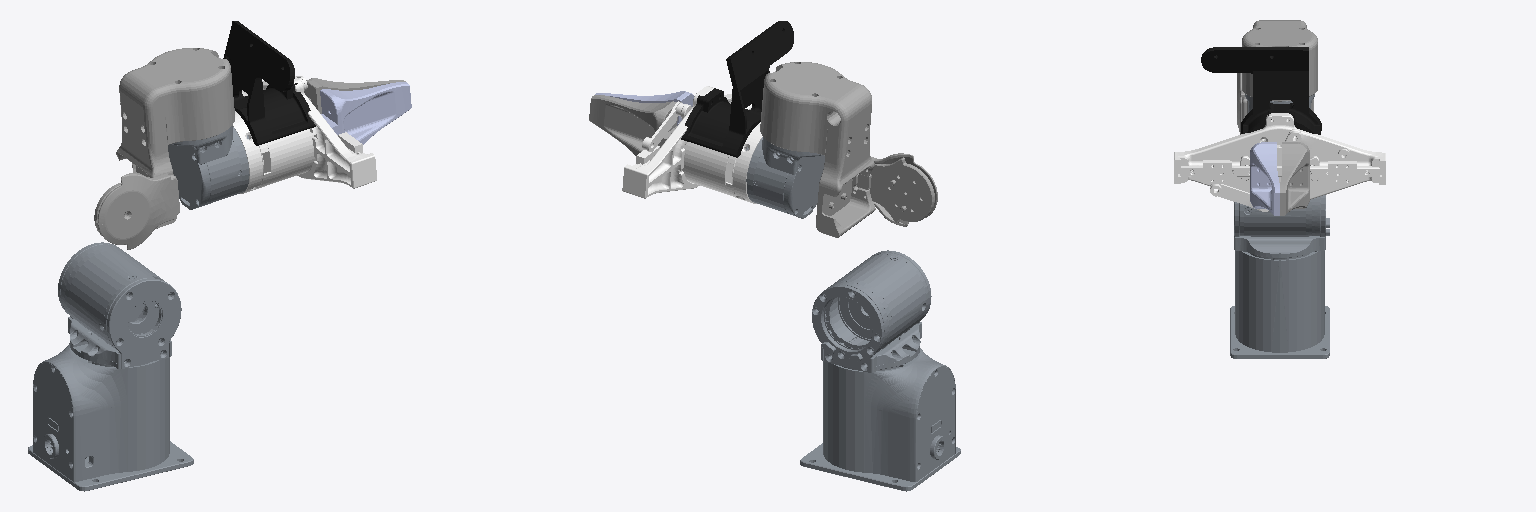
robot.urdf — piper_x_camera:
<?xml version="1.0" ?>
<!-- =================================================================================== -->
<!-- |    This document was autogenerated by xacro from piper_x_description.xacro      | -->
<!-- |    EDITING THIS FILE BY HAND IS NOT RECOMMENDED                                 | -->
<!-- =================================================================================== -->
<!-- This URDF was automatically created by SolidWorks to URDF Exporter! Originally created by Stephen Brawner (brawner@gmail.com) 
     Commit Version: 1.6.0-4-g7f85cfe  Build Version: 1.6.7995.38578
     For more information, please see http://wiki.ros.org/sw_urdf_exporter -->
<robot name="piper_x_camera">
  <material name="aluminum">
    <color rgba="0.5 0.5 0.5 1"/>
  </material>
  <material name="plastic">
    <color rgba="0.1 0.1 0.1 1"/>
  </material>
  <link name="d435_camera_link"/>
  <!-- camera body, with origin at bottom screw mount -->
  <joint name="camera_joint" type="fixed">
    <origin rpy="0 0 0" xyz="0 0 0"/>
    <parent link="d435_camera_link"/>
    <child link="camera_bottom_screw_frame"/>
  </joint>
  <link name="camera_bottom_screw_frame"/>
  <joint name="camera_link_joint" type="fixed">
    <origin rpy="0 0 0" xyz="0.010600000000000002 0.0175 0.0125"/>
    <parent link="camera_bottom_screw_frame"/>
    <child link="camera_link"/>
  </joint>
  <link name="camera_link">
    <visual>
      <!-- the mesh origin is at front plate in between the two infrared camera axes -->
      <origin rpy="1.5707963267948966 0 1.5707963267948966" xyz="0.0043 0.0 0"/>
      <geometry>
        <mesh filename="package://realsense2_description/meshes/d435.dae"/>
      </geometry>
    </visual>
    <collision>
      <origin rpy="0 0 0" xyz="0 -0.0175 0"/>
      <geometry>
        <box size="0.02505 0.09 0.025"/>
      </geometry>
    </collision>
    <inertial>
      <!-- The following are not reliable values, and should not be used for modeling -->
      <mass value="0.072"/>
      <origin xyz="0 0 0"/>
      <inertia ixx="0.0003881243" ixy="0.0" ixz="0.0" iyy="0.0000498940" iyz="0.0" izz="0.0003879257"/>
    </inertial>
  </link>
  <!-- <xacro:if value="${add_plug}">
      <xacro:usb_plug parent="${name}_link" name="${name}_usb_plug">
        <origin xyz="${d435_cam_mount_from_center_offset - 0.02095} ${-d435_cam_depth_py - 0.0353} 0" rpy="0 0 0"/>
      </xacro:usb_plug>
    </xacro:if> -->
  <link
    name="base_link">
  <inertial>
    <origin xyz="-0.00347 -0.00012 0.04283" rpy="0 0 0"/>
    <mass value="1.07"/>
    <inertia
      ixx="0.00298745"
      ixy="0.00000369"
      ixz="0.00016646"
      iyy="0.00312688"
      iyz="0.00000832"
      izz="0.00093042"/>
  </inertial>
    <visual>
      <origin
        xyz="0 0 0"
        rpy="0 0 0" />
      <geometry>
        <mesh
          filename="package://piper_x_description/meshes/dae/base_link.dae" />
      </geometry>
      <material
        name="">
        <color
          rgba="0.59216 0.61961 0.65098 1" />
      </material>
    </visual>
    <collision>
      <origin
        xyz="0 0 0"
        rpy="0 0 0" />
      <geometry>
        <mesh
          filename="package://piper_x_description/meshes/dae/base_link.dae" />
      </geometry>
    </collision>
  </link>
  <link
    name="link1">
    <inertial>
      <origin xyz="0.00065 0.00006 -0.00325" rpy="0 0 0"/>
      <mass
        value="0.71" />
      <inertia
        ixx="0.00051254"
        ixy="0.00000294"
        ixz="0.00001039"
        iyy="0.00041089"
        iyz="0.00000240"
        izz="0.00045962"/>
    </inertial>
    <visual>
      <origin
        xyz="0 0 0"
        rpy="0 0 0" />
      <geometry>
        <mesh
          filename="package://piper_x_description/meshes/dae/J1.dae" />
      </geometry>
      <material
        name="">
        <color
          rgba="0.59216 0.61961 0.65098 1" />
      </material>
    </visual>
    <collision>
      <origin
        xyz="0 0 0"
        rpy="0 0 0" />
      <geometry>
        <mesh
          filename="package://piper_x_description/meshes/dae/J1.dae" />
      </geometry>
    </collision>
  </link>
  <joint
    name="joint1"
    type="revolute">
    <origin
      xyz="0 0 0.123"
      rpy="0 0 0" />
    <parent
      link="base_link" />
    <child
      link="link1" />
    <axis
      xyz="0 0 1" />
    <limit
      lower="-2.618"
      upper="2.618"
      effort="100"
      velocity="10" />
  </joint>
  <link
    name="link2">
    <inertial>
      <origin xyz="0.21854 -0.00853 0.00234" rpy="0 0 0"/>
      <mass value="1.16"/>
      <inertia
        ixx="0.00109788"
        ixy="0.00180610"
        ixz="0.00055040"
        iyy="0.06763354"
        iyz="0.00000813"
        izz="0.06762540"/>
    </inertial>
    <visual>
      <origin
        xyz="0 0 0"
        rpy="0 0 0" />
      <geometry>
        <mesh
          filename="package://piper_x_description/meshes/dae/J2.dae" />
      </geometry>
    </visual>
    <collision>
      <origin
        xyz="0 0 0"
        rpy="0 0 0" />
      <geometry>
        <mesh
          filename="package://piper_x_description/meshes/dae/J2.dae" />
      </geometry>
    </collision>
  </link>
  <joint
    name="joint2"
    type="revolute">
    <origin
      xyz="0 0 0"
      rpy="1.5708 -0.13586 3.1416" />
    <parent
      link="link1" />
    <child
      link="link2" />
    <axis
      xyz="0 0 1" />
    <limit
      lower="0"
      upper="3.14"
      effort="100"
      velocity="10" />
  </joint>
  <link
    name="link3">
    <inertial>
      <origin xyz="0.20190 -0.00415 -0.00114" rpy="0 0 0"/>
      <mass value="0.67"/>
      <inertia
        ixx="0.00033471"
        ixy="0.00026891"
        ixz="0.00013918"
        iyy="0.03360411"
        iyz="0.00000052"
        izz="0.03356941"/>
    </inertial>
    <visual>
      <origin
        xyz="0 0 0"
        rpy="0 0 0" />
      <geometry>
        <mesh
          filename="package://piper_x_description/meshes/dae/J3.dae" />
      </geometry>
      <material
        name="">
        <color
          rgba="0.59216 0.61961 0.65098 1" />
      </material>
    </visual>
    <collision>
      <origin
        xyz="0 0 0"
        rpy="0 0 0" />
      <geometry>
        <mesh
          filename="package://piper_x_description/meshes/dae/J3.dae" />
      </geometry>
    </collision>
  </link>
  <joint
    name="joint3"
    type="revolute">
    <origin
      xyz="0.28503 0 0"
      rpy="0 0 2.8377" />
    <parent
      link="link2" />
    <child
      link="link3" />
    <axis
      xyz="0 0 1" />
    <limit
      lower="-2.9671"
      upper="0"
      effort="100"
      velocity="10" />
  </joint>
  <link
    name="link4">
    <inertial>
      <origin xyz="0.06593 -0.04751 -0.00274" rpy="0 0 0"/>
      <mass value="0.4"/>
      <inertia
        ixx="0.00120173"
        ixy="0.00138165"
        ixz="0.00001187"
        iyy="0.00209324"
        iyz="0.00000217"
        izz="0.00307814"/>
    </inertial>
    <visual>
      <origin
        xyz="0 0 0"
        rpy="0 0 0" />
      <geometry>
        <mesh
          filename="package://piper_x_description/meshes/dae/J4.dae" />
      </geometry>
      <material
        name="">
        <color
          rgba="0.69804 0.69804 0.69804 0.875" />
      </material>
    </visual>
    <collision>
      <origin
        xyz="0 0 0"
        rpy="0 0 0" />
      <geometry>
        <mesh
          filename="package://piper_x_description/meshes/dae/J4.dae" />
      </geometry>
    </collision>
  </link>
  <joint
    name="joint4"
    type="revolute">
    <origin
      xyz="0.27264 0 0"
      rpy="0 0 0.075129" />
    <parent
      link="link3" />
    <child
      link="link4" />
    <axis
      xyz="0 0 1" />
    <limit
      lower="-1.57"
      upper="1.57"
      effort="100"
      velocity="10" />
  </joint>
  <link
    name="link5">
    <inertial>
      <origin xyz="0.00005 0.0 -0.00417" rpy="0 0 0"/>
      <mass value="0.35"/>
      <inertia
        ixx="0.00022660"
        ixy="0.00000019"
        ixz="0.00000005"
        iyy="0.00017740"
        iyz="0.00000085"
        izz="0.00019425"/>
    </inertial>
    <visual>
      <origin
        xyz="0 0 0"
        rpy="0 0 0" />
      <geometry>
        <mesh
          filename="package://piper_x_description/meshes/dae/J5.dae" />
      </geometry>
      <material
        name="">
        <color
          rgba="0.59216 0.61961 0.65098 1" />
      </material>
    </visual>
    <collision>
      <origin
        xyz="0 0 0"
        rpy="0 0 0" />
      <geometry>
        <mesh
          filename="package://piper_x_description/meshes/dae/J5.dae" />
      </geometry>
    </collision>
  </link>
  <joint
    name="joint5"
    type="revolute">
    <origin
      xyz="0.076857 0.00062395 0"
      rpy="-1.5708 0 0" />
    <parent
      link="link4" />
    <child
      link="link5" />
    <axis
      xyz="0 0 1" />
    <limit
      lower="-1.57"
      upper="1.57"
      effort="100"
      velocity="10" />
  </joint>
  <link
    name="link6">
    <inertial>
      <origin xyz="0 0 -0.00351" rpy="0 0 0"/>
      <mass value="0.007"/>
      <inertia
        ixx="0.00000064"
        ixy="0"
        ixz="0"
        iyy="0.00000064"
        iyz="0"
        izz="0.00000106"/>
    </inertial>
    <visual>
      <origin
        xyz="0 0 -0.035"
        rpy="0 0 0" />
      <geometry>
        <mesh
          filename="package://piper_x_description/meshes/Link6.STL" />
      </geometry>
      <material
        name="">
        <color
          rgba="0.898039215686275 0.917647058823529 0.929411764705882 1" />
      </material>
    </visual>
    <collision>
      <origin
        xyz="0 0 -0.035"
        rpy="0 0 0" />
      <geometry>
        <mesh
          filename="package://piper_x_description/meshes/Link6.STL" />
      </geometry>
    </collision>
  </link>
  <joint
    name="joint6"
    type="revolute">
    <origin
      xyz="0.035 0 0"
      rpy="1.5708 0 1.5708" />
    <parent
      link="link5" />
    <child
      link="link6" />
    <axis
      xyz="0 0 1" />
    <limit
      lower="-3.14"
      upper="3.14"
      effort="100"
      velocity="10" />
  </joint>

  <link
    name="gripper_base">
    <inertial>
      <origin xyz="-0.00006 -0.00003 0.0321436689908876" rpy="0 0 0"/>
      <mass value="0.52"/>
      <inertia
        ixx="0.00151445"
        ixy="0.00000048"
        ixz="0.00000003"
        iyy="0.00162326"
        iyz="0.00000277"
        izz="0.00030728"/>
    </inertial>
    <visual>
      <origin
        xyz="0.002 0.0078 0.06"
        rpy="-1.57 0 3.14" />
      <geometry>
        <mesh
          filename="package://piper_x_description/meshes/dae/gripper_base_100_v2.dae" scale="0.8 0.8 0.8"/>
      </geometry>
      <material
        name="">
        <color
          rgba="1 1 1 1" />
      </material>
    </visual>
    <collision>
      <origin
        xyz="0.002 0.0078 0.06"
        rpy="-1.57 0 3.14" />
      <geometry>
        <mesh
          filename="package://piper_x_description/meshes/dae/gripper_base_100_v2.dae" scale="0.8 0.8 0.8"/>
      </geometry>
    </collision>
  </link>

  <joint
    name="joint6_to_gripper_base"
    type="fixed">
    <origin
      xyz="0 0 0"
      rpy="0 0 0" />
    <parent
      link="link6" />
    <child
      link="gripper_base" />
  </joint>

  <link name="link7">
    <inertial>
    <origin
        xyz="0.000277816920932317 -0.0467673824063769 -0.00921030054508036"
        rpy="0 0 0" />
    <mass value="0.0264822021416248" />
    <inertia
        ixx="9.99779119357223E-06"
        ixy="-1.57542283433504E-07"
        ixz="2.71367446701359E-08"
        iyy="6.17952441557932E-06"
        iyz="1.58939319453383E-06"
        izz="1.4210192754512E-05" />
    </inertial>
    <visual>
      <geometry>
        <mesh filename="package://piper_x_description/meshes/dae/J7.dae" />
      </geometry>
      <material name="LightGrey">
        <color rgba="0.7 0.7 0.7 1.0"/>
      </material>
    </visual>
    <collision>
      <geometry>
        <mesh filename="package://piper_x_description/meshes/dae/J7.dae" />
      </geometry>
    </collision>
  </link>

    <joint name="joint7" type="prismatic">
        <origin xyz="0 0 0.13503" rpy="1.5708 0 1.5708" />
        <parent link="gripper_base" />
        <child link="link7" />
        <axis xyz="0 0 -1" />
        <limit lower="0" upper="0.05" effort="100" velocity="1" />
    </joint>

    <link name="link8">
        <inertial>
        <origin
            xyz="0.000277816920932317 0.0467673824063769 -0.00921030054508036"
            rpy="0 0 0" />
        <mass value="0.0264822021416248" />
        <inertia
            ixx="9.99779119357223E-06"
            ixy="-1.57542283433504E-07"
            ixz="2.71367446701359E-08"
            iyy="6.17952441557932E-06"
            iyz="1.58939319453383E-06"
            izz="1.4210192754512E-05" />
        </inertial>
        <visual>
        <origin xyz="0 0 0" rpy="0 0 0" />
        <geometry>
          <mesh filename="package://piper_x_description/meshes/dae/J8.dae" />
        </geometry>
        <material name="">
            <color rgba="0.792156862745098 0.819607843137255 0.933333333333333 1" />
        </material>
        </visual>
        <collision>
        <origin xyz="0 0 0" rpy="0 0 0" />
        <geometry>
          <mesh filename="package://piper_x_description/meshes/dae/J8.dae" />
        </geometry>
        </collision>
    </link>
    <joint name="joint8" type="prismatic">
        <origin xyz="0 0 0.13503" rpy="-1.5708 0 1.5708" />
        <parent link="gripper_base" />
        <child link="link8" />
        <axis xyz="0 0 1" />
        <limit lower="-0.05" upper="0" effort="100" velocity="1" />
    </joint>
  <link name="camera_stand_link">
    <inertial>
      <origin rpy="0.0 0.0 0.0" xyz="0.0 0.0 0.0"/>
      <mass value="0.0"/>
      <inertia ixx="0.0" ixy="0.0" ixz="0.0" iyy="0.0" iyz="0.0" izz="0.0"/>
    </inertial>
    <visual name="">
      <origin rpy="0.0 0.0 0.0" xyz="0.0 0.0 0.0"/>
      <geometry>
        <mesh filename="package://piper_x_description/meshes/dae/realsense_mid_stand.dae"/>
      </geometry>
    </visual>
    <collision>
      <origin rpy="0.0 0.0 0.0" xyz="0.0 0.0 0.0"/>
      <geometry>
        <mesh filename="package://piper_x_description/meshes/dae/realsense_mid_stand.dae"/>
      </geometry>
    </collision>
  </link>
  <joint name="camera_stand_joint" type="fixed">
    <origin rpy="1.57 3.14 0.0" xyz="0.001 -0.036 0.022"/>
    <parent link="gripper_base"/>
    <child link="camera_stand_link"/>
    <axis xyz="0.0 0.0 0.0"/>
    <limit effort="0.0" lower="0.0" upper="0.0" velocity="0.0"/>
  </joint>
  <joint name="d435_camera_joint" type="fixed">
    <origin rpy="0.0 -1.22 1.57" xyz="0.029 -0.069 0.022"/>
    <parent link="gripper_base"/>
    <child link="d435_camera_link"/>
    <axis xyz="0.0 0.0 0.0"/>
    <limit effort="0.0" lower="0.0" upper="0.0" velocity="0.0"/>
  </joint>
</robot>

--- Facts derived from the render (not from the file) ---
Views: 3 orthographic renders of the robot side by side, from view 1: azimuth 30°, elevation 25°; view 2: azimuth 150°, elevation 25°; view 3: azimuth 270°, elevation 25°.
Model piper_x_camera with 14 links and 13 joints (6 revolute, 2 prismatic, 5 fixed), rooted at base_link, posed every joint at zero.
Links seen in each view (by area): view 1: base_link, link4, link1, gripper_base, camera_stand_link, link5, link8, link7; view 2: link4, base_link, link1, gripper_base, camera_stand_link, link5, link7, link8; view 3: base_link, gripper_base, camera_stand_link, link1, link4, link7, link8.
Boxes of the visible links, x1,y1,x2,y2 form: base_link: (28, 343, 193, 491); link4: (94, 48, 234, 249); link1: (58, 242, 181, 368); gripper_base: (232, 76, 376, 193); camera_stand_link: (223, 21, 315, 145); link5: (168, 126, 252, 209); link8: (320, 82, 411, 144); link7: (304, 78, 405, 113); link4: (760, 62, 937, 237); base_link: (800, 348, 960, 491); link1: (812, 250, 931, 372); gripper_base: (622, 86, 762, 203); camera_stand_link: (681, 21, 793, 157); link5: (746, 137, 824, 218); link7: (589, 95, 677, 155); link8: (595, 91, 693, 125); base_link: (1230, 251, 1329, 358); gripper_base: (1174, 113, 1385, 211); camera_stand_link: (1201, 47, 1321, 134); link1: (1234, 195, 1329, 259); link4: (1237, 20, 1317, 134); link7: (1280, 142, 1309, 215); link8: (1250, 142, 1279, 215).
Bounding box of the posed robot: 0.3349 × 0.1714 × 0.3165 m (x, y, z).
Meshes: 12 distinct files referenced, 9 mesh visuals loaded (1 binary STL, 8 Collada DAE); not drawn: 3 (reference not matched to a file when rendering).
